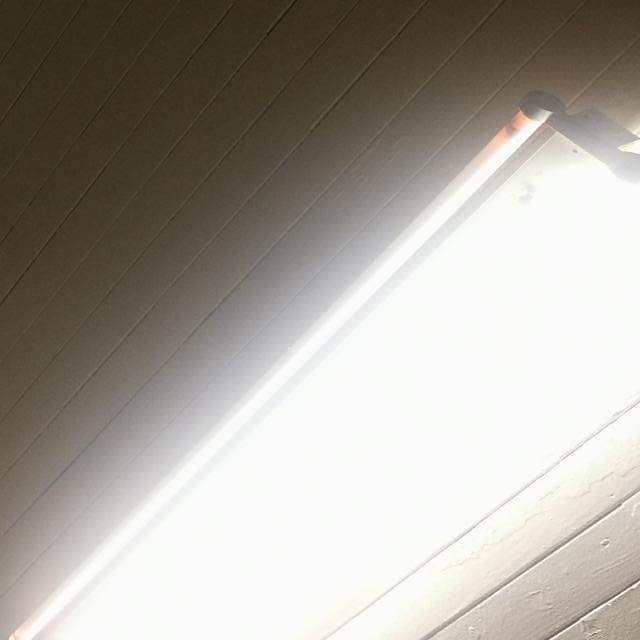fluorescent tube: (0, 50, 638, 640)
